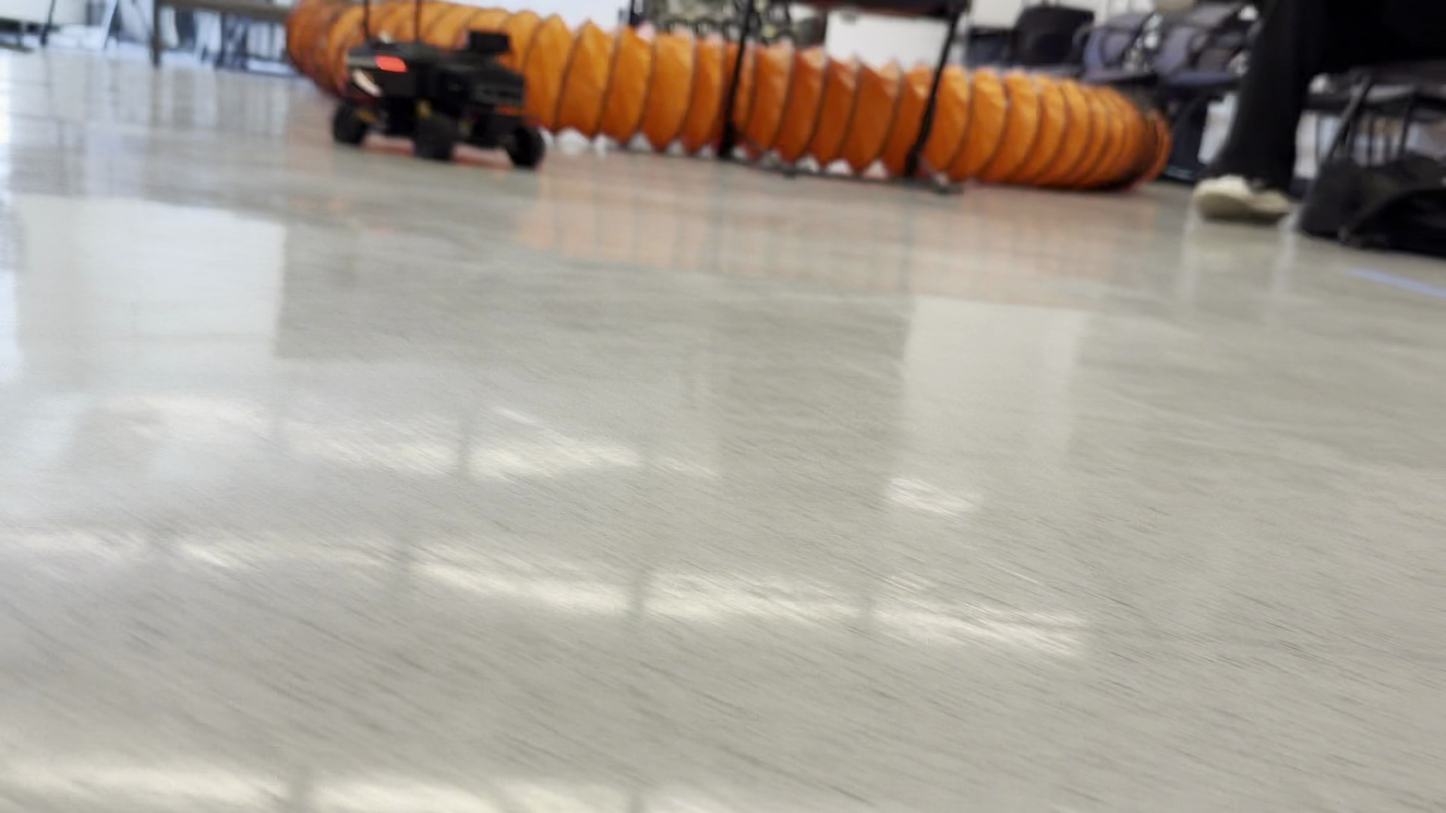racecar: (331, 16, 544, 171)
